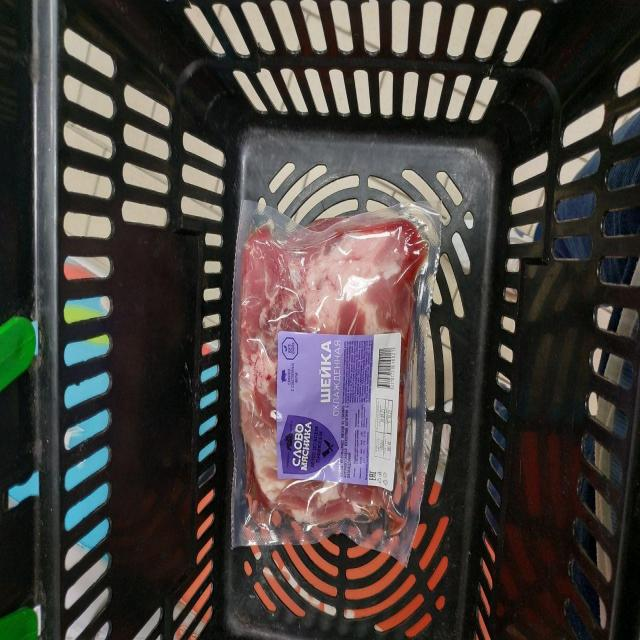Meat: (232, 202, 440, 563)
